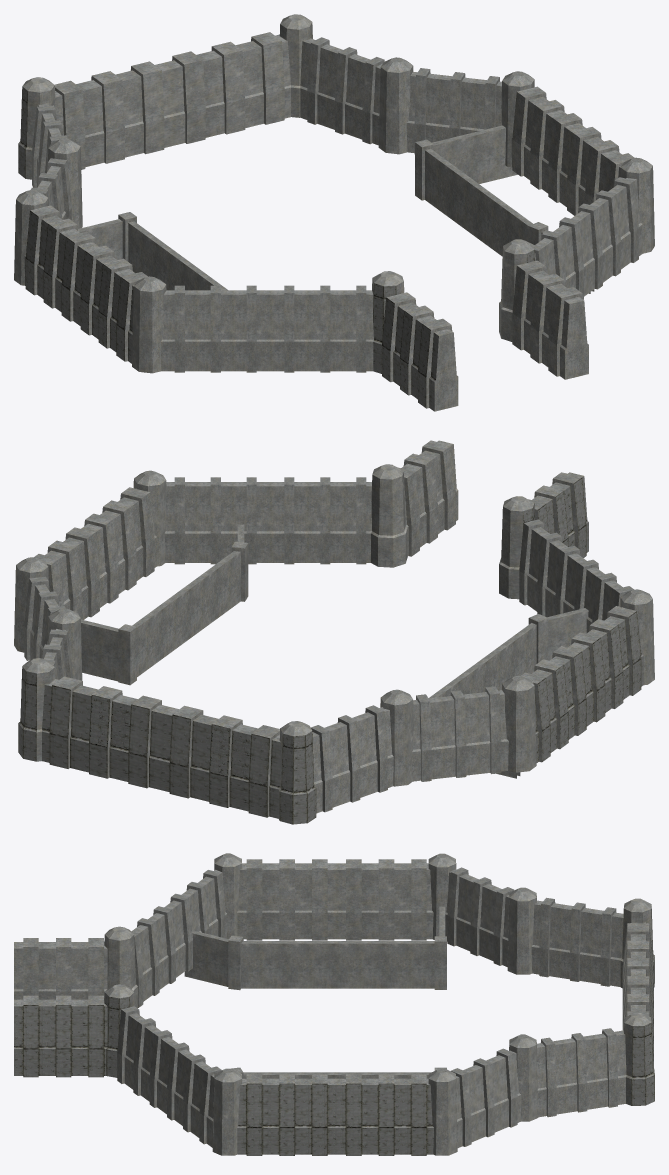
File: poi_all_impl_corral_64x64_s01_l0.fbx
3 renders of one model, top to bottom at view 1: azimuth 30°, elevation 25°; view 2: azimuth 150°, elevation 25°; view 3: azimuth 270°, elevation 25°, orthographic. The views are drawn at different scales.
Parts seen in each view (by area): view 1: mesh_node; view 2: mesh_node; view 3: mesh_node.
Boxes of the visible parts, x1,y1,x2,y2 form: mesh_node: (14, 14, 654, 411); mesh_node: (14, 440, 654, 824); mesh_node: (14, 853, 654, 1155).
Size of the model in its own units: 43.5 by 8.4 by 51.63.
